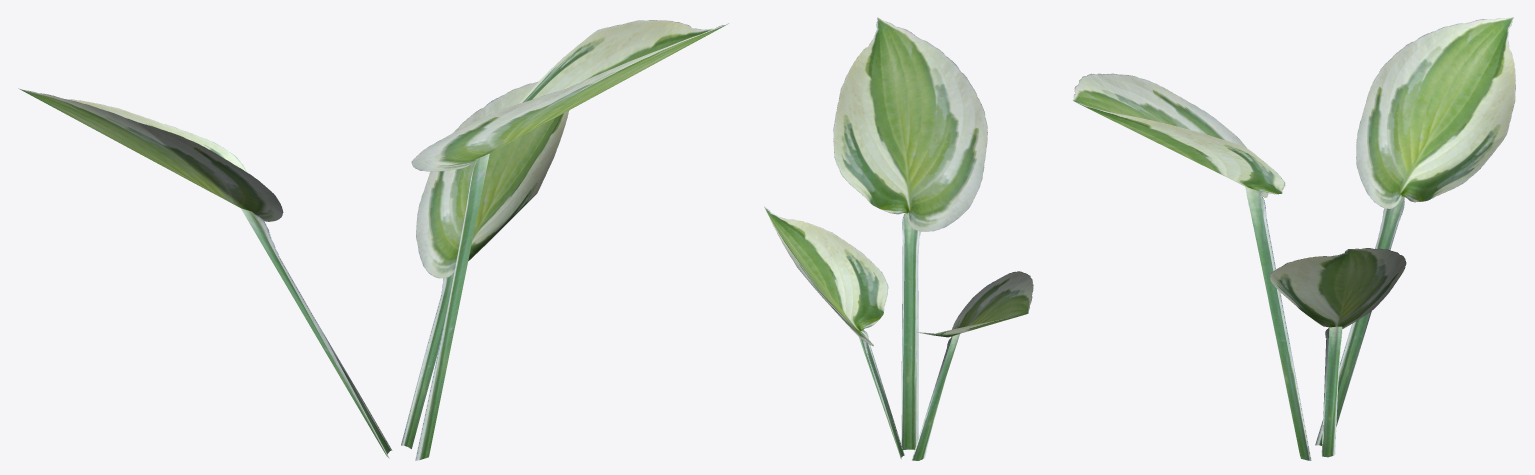
The model's file is plant_small_wg_02Q.fbx.
The picture shows the model from 3 angles, left to right: view 1: azimuth 30°, elevation 25°; view 2: azimuth 150°, elevation 25°; view 3: azimuth 270°, elevation 25°; orthographic projection. The views are drawn at different scales.
Visible parts, largest first — view 1: plant_small_wg_02Q; view 2: plant_small_wg_02Q; view 3: plant_small_wg_02Q.
Boxes of the visible parts, left/top/right/bottom form: plant_small_wg_02Q: left=18, top=20, right=729, bottom=460; plant_small_wg_02Q: left=764, top=17, right=1033, bottom=460; plant_small_wg_02Q: left=1072, top=17, right=1515, bottom=460.
Bounding box in the file's own units: 58.26 × 56.8 × 53.27.
